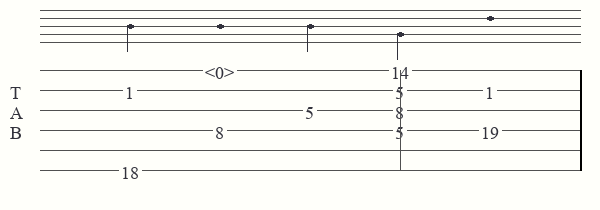1: (125, 82, 138, 98), (485, 82, 498, 98)
14: (391, 62, 413, 78)
18: (121, 162, 143, 178)
19: (481, 122, 503, 138)
5: (305, 102, 318, 118), (395, 122, 408, 138), (395, 82, 408, 98)
8: (215, 122, 228, 138), (395, 102, 408, 118)
harmonic: (205, 62, 238, 78)
